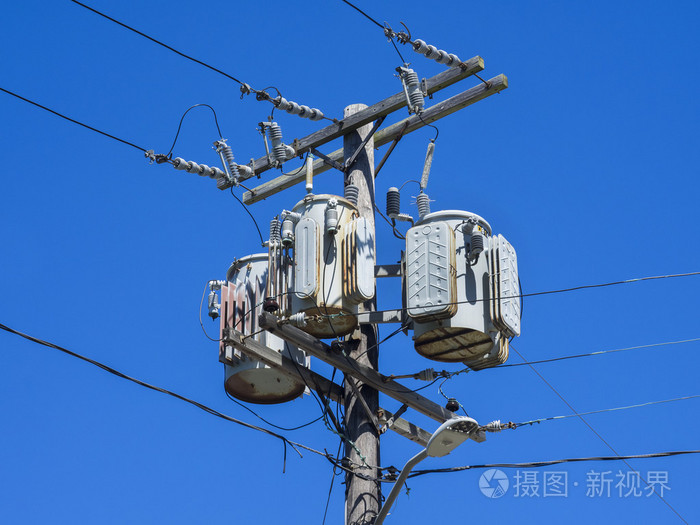insulator: (411, 39, 462, 68), (272, 97, 324, 119), (174, 156, 222, 177)
